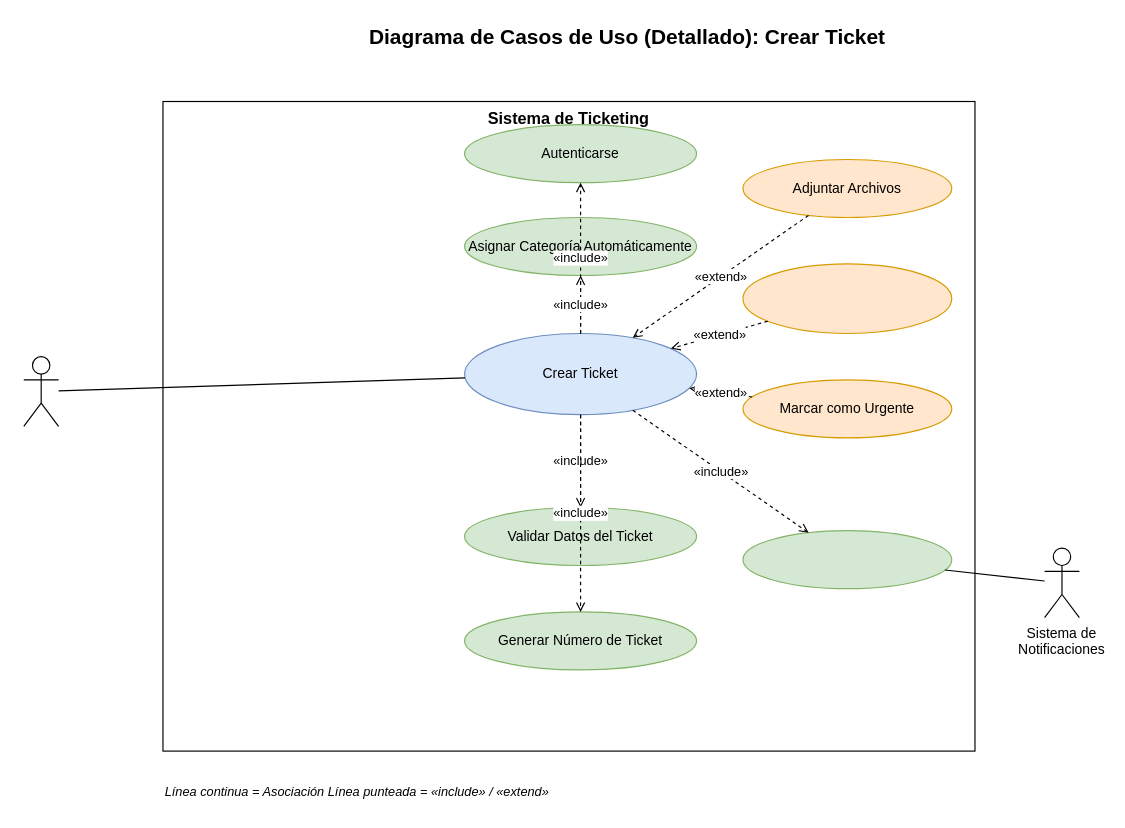
The diagram is 1125 pixels wide and 828 high, and some of its shapes have lost their labels. The shapes that lost their labels are listed below. From the top down, each one's centre as x and y in pixels, then its label:
point 847,298: Guardar como Borrador
point 41,391: Cliente
point 847,559: Notificar Creación
